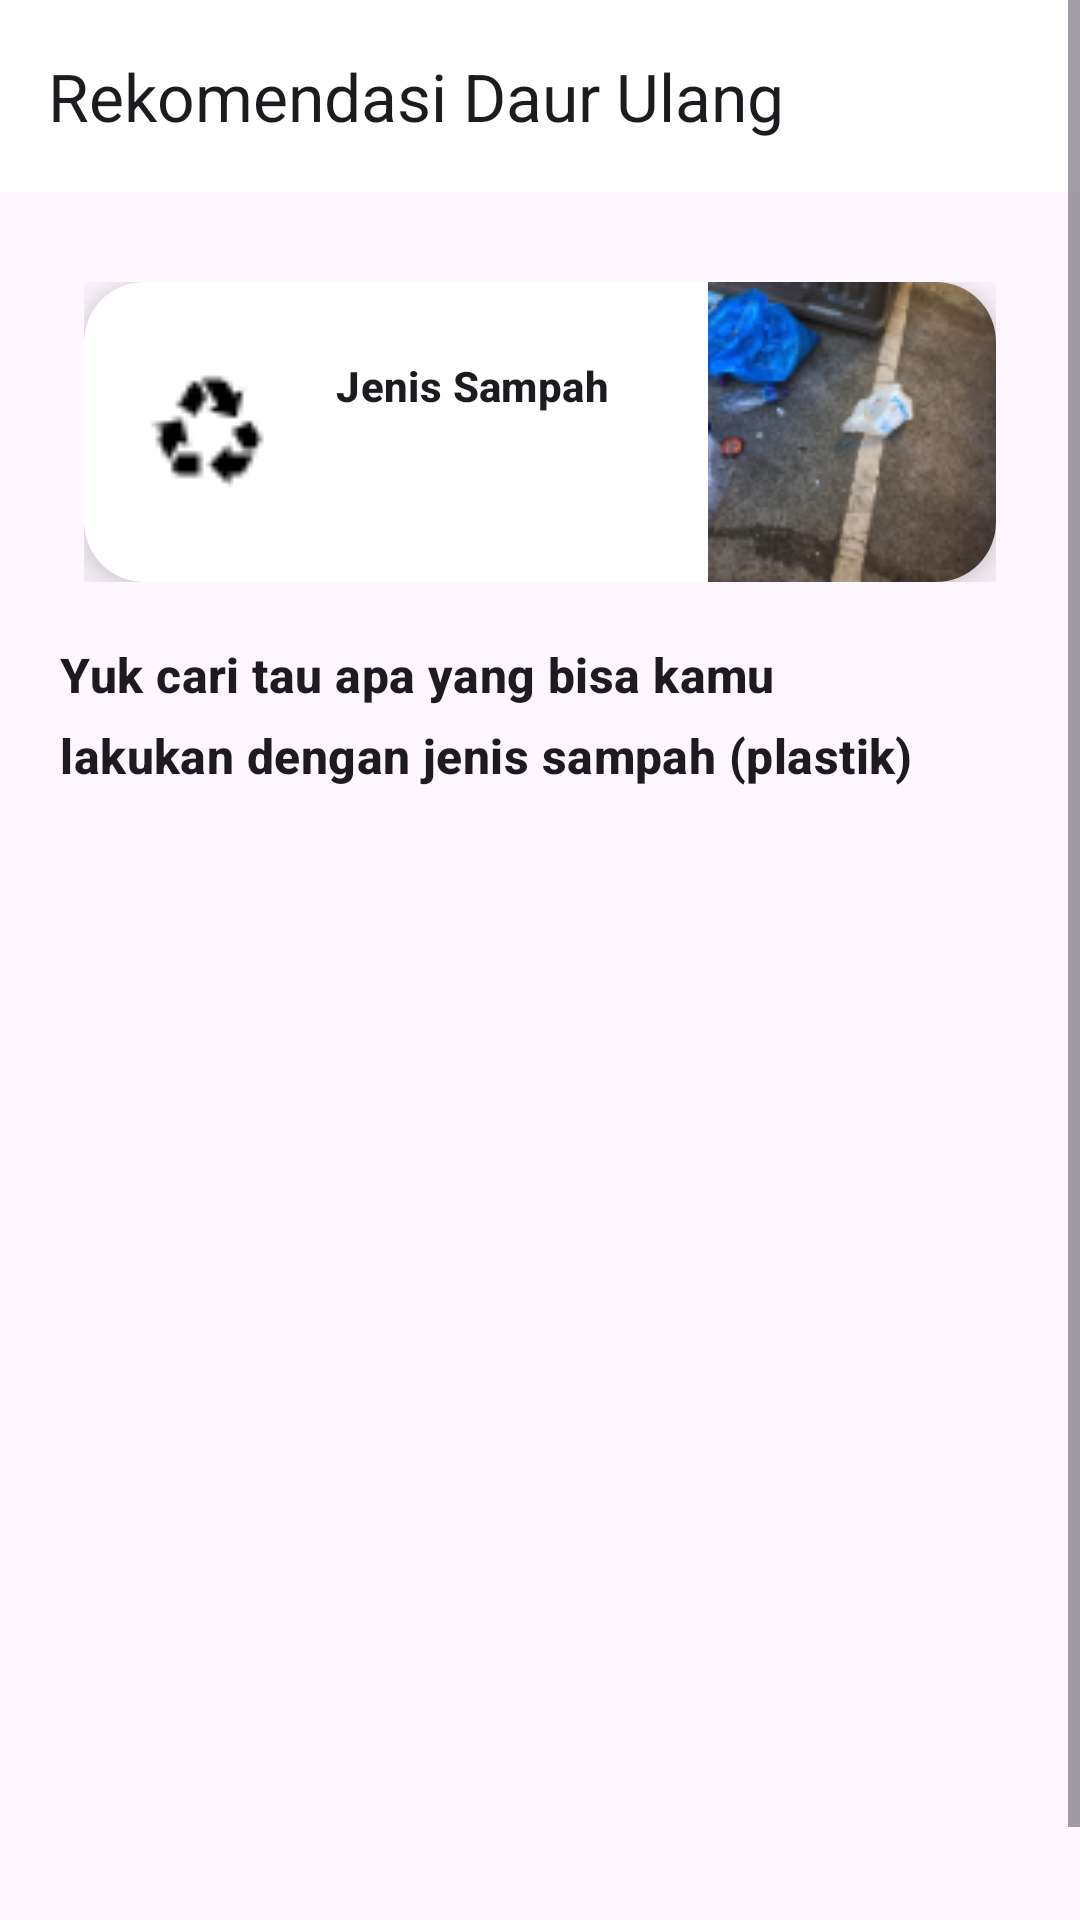

Named icons in this screenshot (1080*1920) and their centers, [x,y]:
example photo: [852,432]
